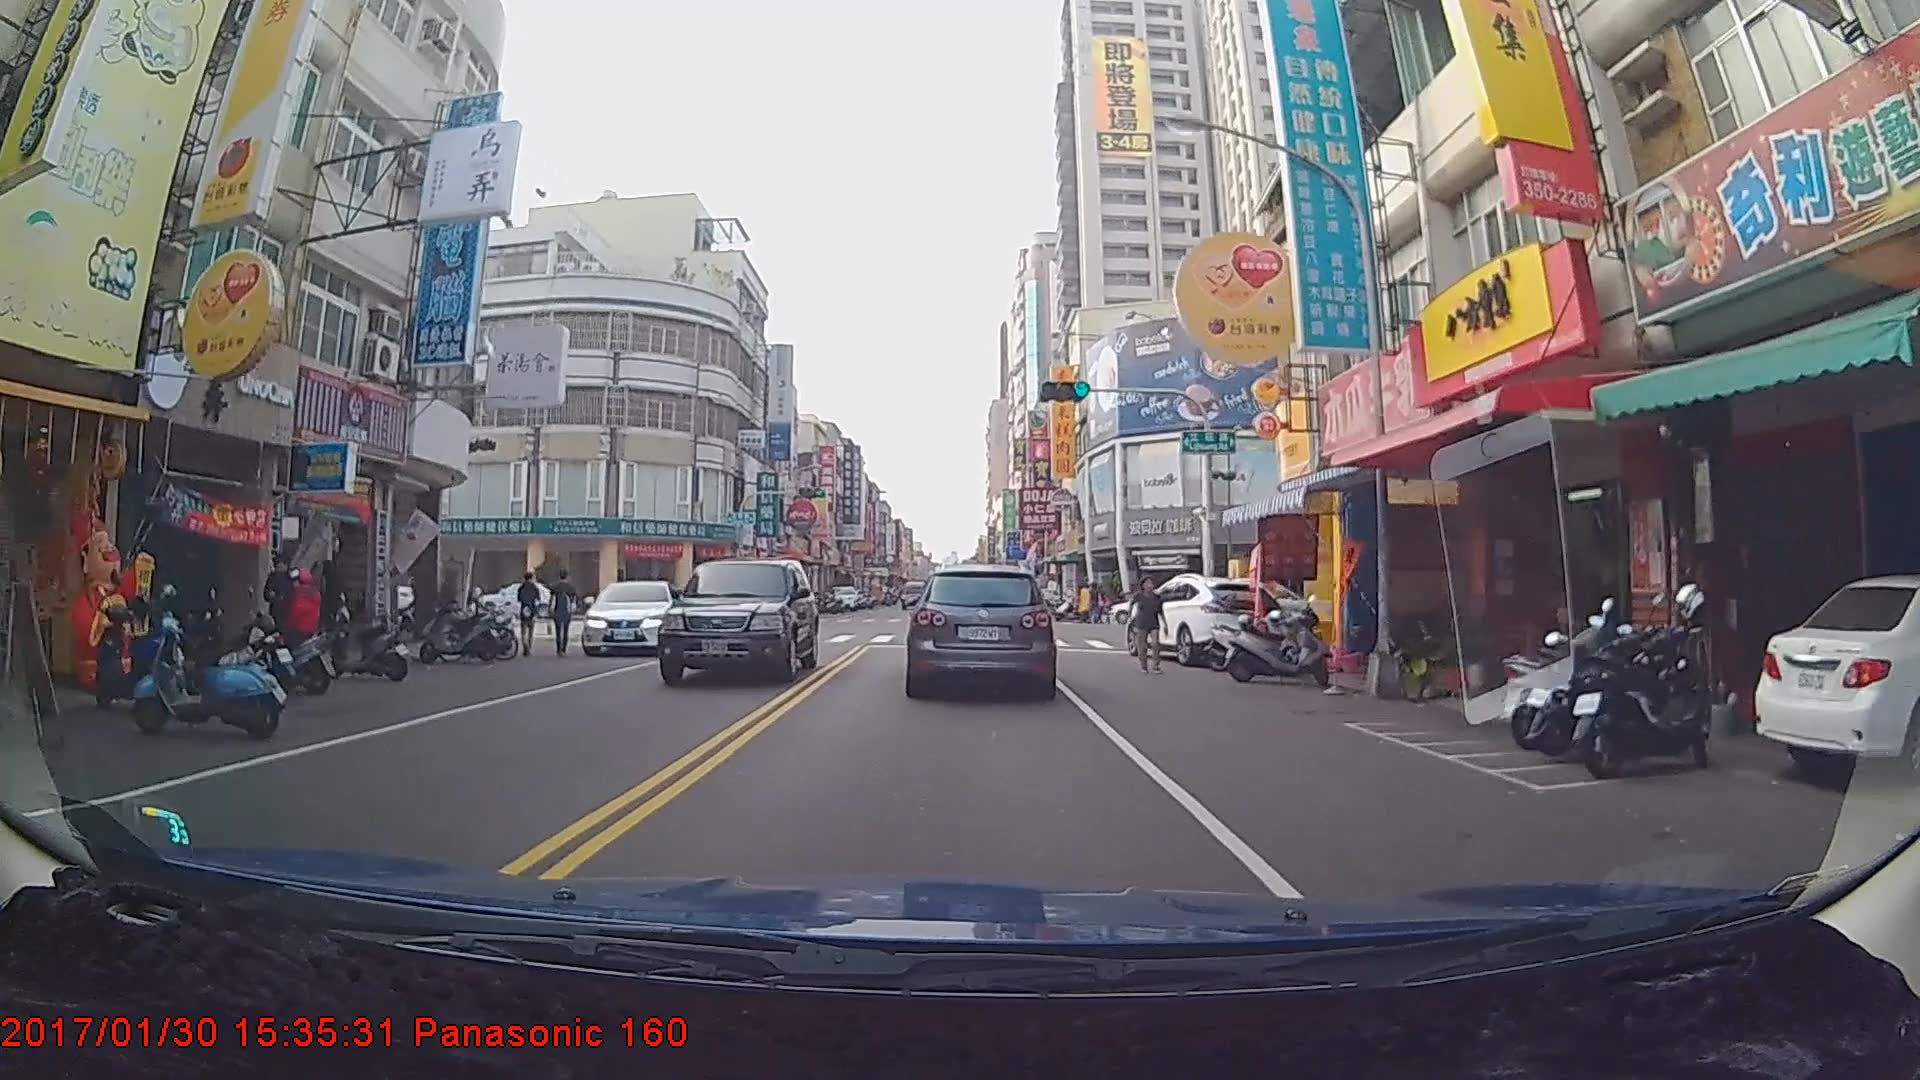pedestrian: (259, 548, 311, 671), (1129, 579, 1167, 672), (546, 569, 582, 655), (518, 573, 544, 660)
rider: (232, 568, 342, 700)
vehicle: (1748, 572, 1920, 785), (657, 555, 820, 685), (909, 563, 1053, 697), (1124, 573, 1285, 667), (578, 579, 682, 657), (901, 577, 929, 607)
